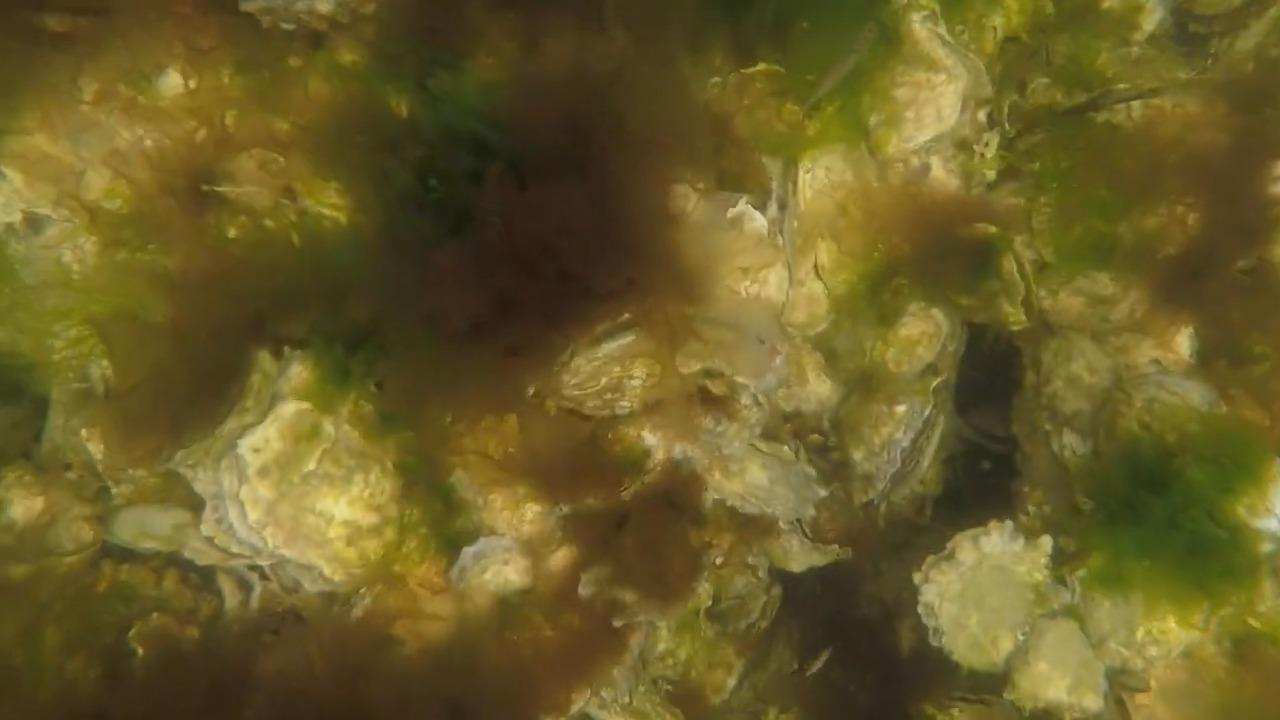Oyster: (178, 374, 409, 584), (820, 294, 965, 518), (432, 416, 583, 610), (670, 405, 840, 547), (917, 527, 1060, 674), (863, 11, 988, 158), (100, 493, 267, 603), (1049, 77, 1232, 161), (1027, 325, 1130, 465), (543, 316, 669, 420), (715, 189, 811, 317), (1005, 614, 1111, 714), (1031, 265, 1165, 343), (951, 225, 1039, 327), (719, 615, 810, 711), (761, 336, 844, 434), (865, 297, 955, 381), (748, 509, 851, 578), (13, 491, 96, 573), (446, 531, 535, 601), (1120, 367, 1229, 424), (701, 575, 783, 643), (772, 252, 836, 339), (234, 1, 376, 39), (1227, 455, 1280, 553), (103, 501, 200, 554), (452, 406, 523, 466), (124, 608, 201, 662), (961, 396, 1021, 453), (576, 561, 625, 608), (1168, 323, 1199, 363)
